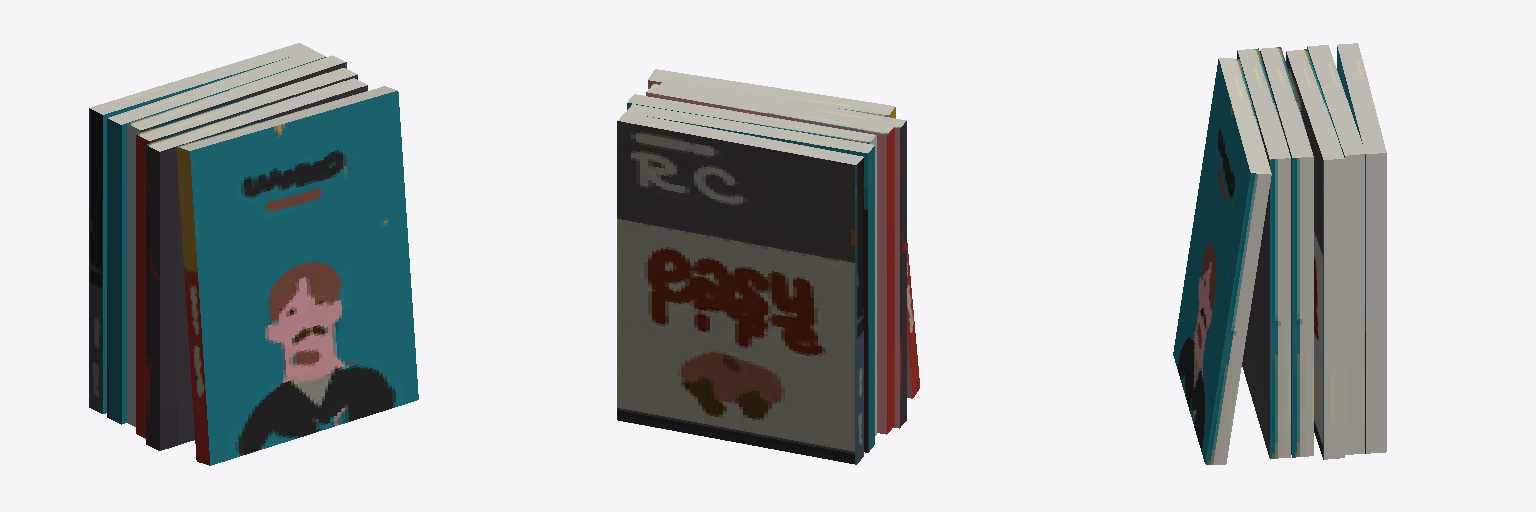
The picture shows the model from 3 angles: view 1: azimuth 30°, elevation 25°; view 2: azimuth 150°, elevation 25°; view 3: azimuth 270°, elevation 25°; orthographic projection.
Parts seen in each view (by area): view 1: Libros_2:Mesh0; view 2: Libros_2:Mesh0; view 3: Libros_2:Mesh0.
Boxes of the visible parts, box(x1,y1,x2,y2) form: Libros_2:Mesh0: box(89, 43, 418, 465); Libros_2:Mesh0: box(617, 69, 919, 464); Libros_2:Mesh0: box(1173, 43, 1386, 464).
Size of the model in its own units: 0.2396 by 0.2706 by 0.1736.
1 materials, 1 textured.